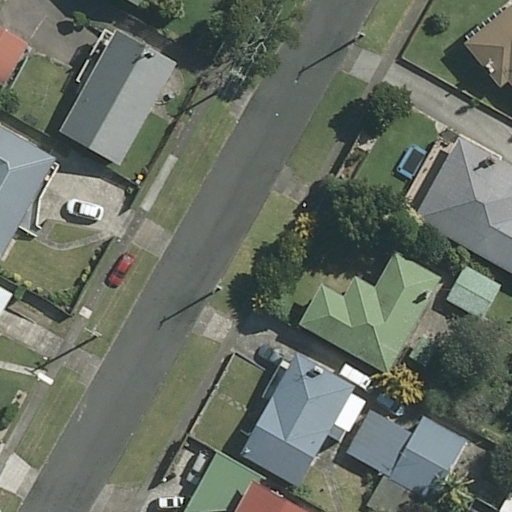DT: (78, 325, 104, 341), (210, 277, 226, 295), (229, 68, 248, 82), (354, 31, 368, 43)
